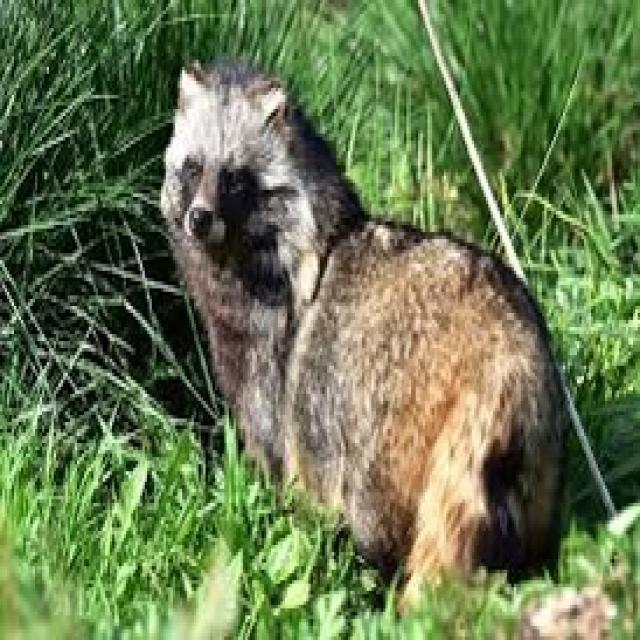racoon: (157, 51, 554, 576)
